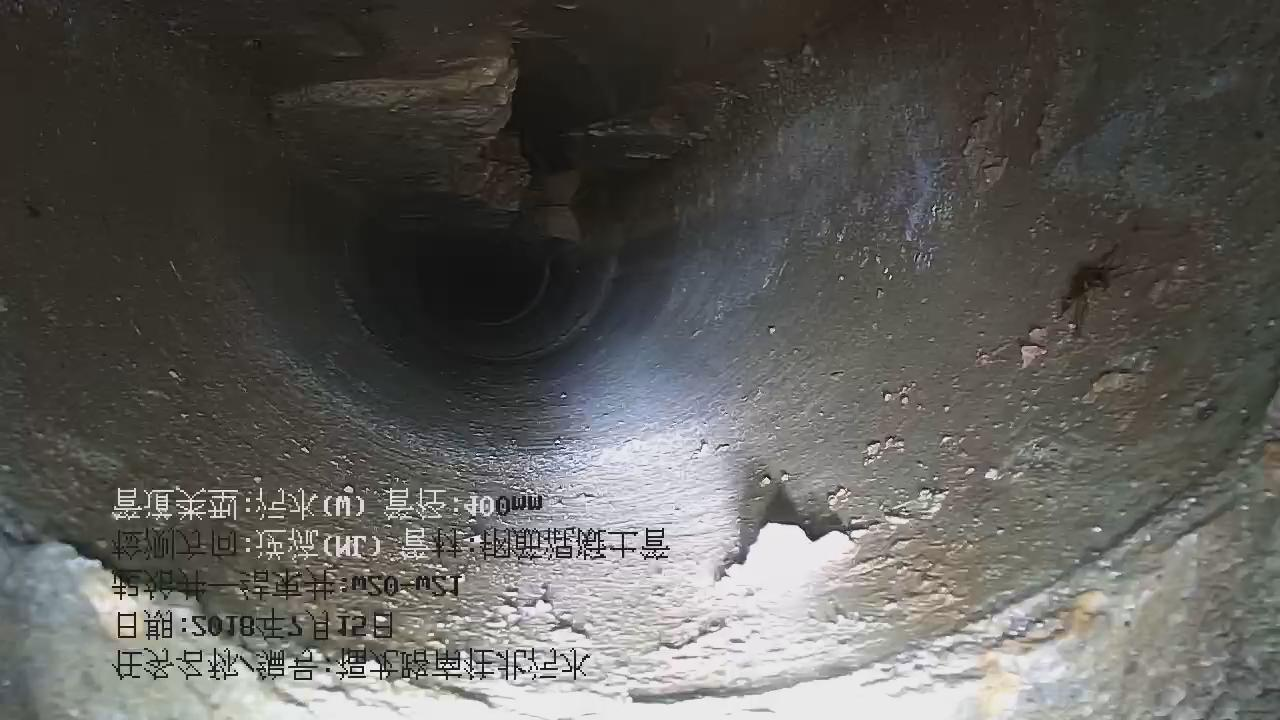JG: (271, 52, 529, 235), (537, 207, 579, 246)
